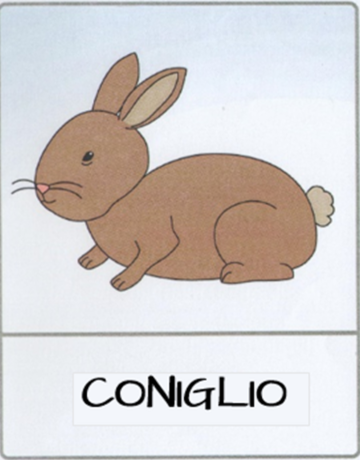coniglio: (5, 34, 351, 432)
